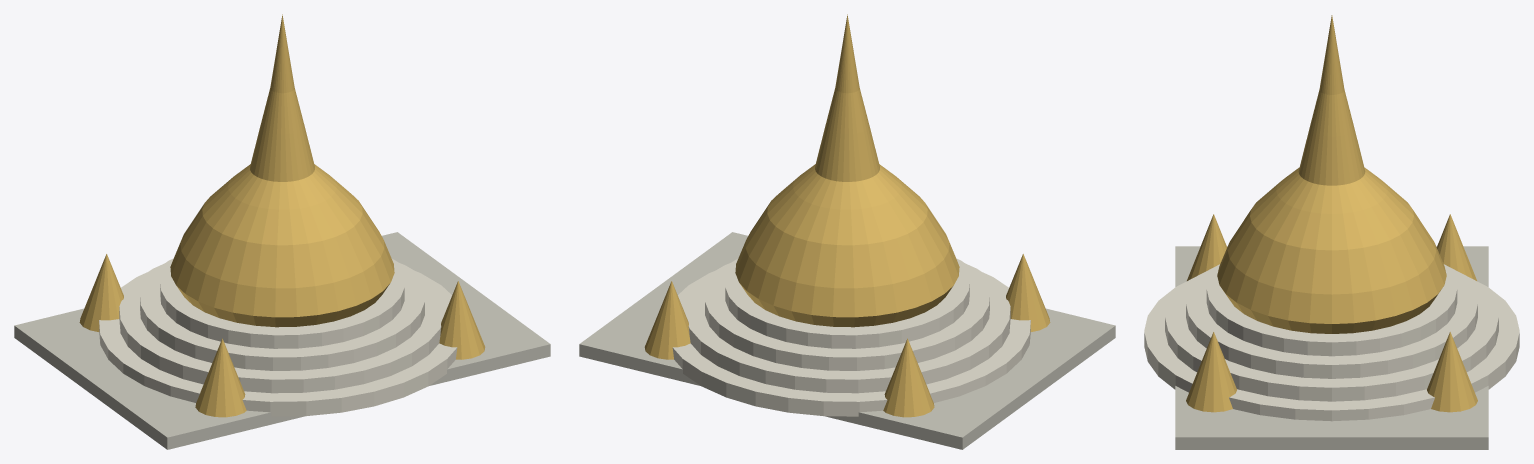
Rendered from myanmar_detail.glb.
3 renders of one model, left to right at view 1: azimuth 30°, elevation 25°; view 2: azimuth 150°, elevation 25°; view 3: azimuth 270°, elevation 25°, orthographic. The views are drawn at different scales.
Parts seen in each view (by area): view 1: stone plinth, bell stupa.002, terrace.001, terrace, terrace.002, bell stupa.001, terrace.003, bell stupa.003, bell stupa.004, bell stupa.005, small stupa, small stupa.002 (+4 smaller); view 2: stone plinth, bell stupa.002, terrace.001, terrace, terrace.002, bell stupa.001, terrace.003, bell stupa.003, bell stupa.004, bell stupa.005, small stupa.001, small stupa.003 (+4 smaller); view 3: stone plinth, bell stupa.002, terrace, terrace.001, terrace.002, bell stupa.001, terrace.003, bell stupa.003, bell stupa.004, bell stupa.005, small stupa.002, small stupa.003 (+5 smaller).
Part boxes in pixels (x1,y1,x2,y2): stone plinth: (14,232,550,449); bell stupa.002: (180,202,384,288); terrace.001: (119,263,445,393); terrace: (99,271,457,416); terrace.002: (140,258,424,370); bell stupa.001: (170,240,394,317); terrace.003: (160,261,404,348); bell stupa.003: (202,177,362,245); bell stupa.004: (228,164,336,209); bell stupa.005: (250,124,314,181); small stupa: (195,338,246,417); small stupa.002: (439,281,485,359); stone plinth: (579,232,1115,449); bell stupa.002: (745,202,949,288); terrace.001: (684,263,1010,393); terrace: (672,271,1030,416); terrace.002: (705,258,989,370); bell stupa.001: (735,240,959,317); terrace.003: (725,261,969,348); bell stupa.003: (767,177,927,245); bell stupa.004: (793,164,901,209); bell stupa.005: (815,124,879,181); small stupa.001: (883,338,934,417); small stupa.003: (644,281,690,359); stone plinth: (1175,246,1488,449); bell stupa.002: (1227,209,1436,294); terrace: (1144,278,1519,421); terrace.001: (1165,269,1498,401); terrace.002: (1186,264,1477,378); bell stupa.001: (1217,243,1446,323); terrace.003: (1206,267,1457,356); bell stupa.003: (1250,182,1413,250); bell stupa.004: (1276,167,1387,213); bell stupa.005: (1298,128,1365,185); small stupa.002: (1186,332,1236,412); small stupa.003: (1427,332,1477,412).
Bounding box in the file's own units: 6.5 × 5.4 × 5.4.
